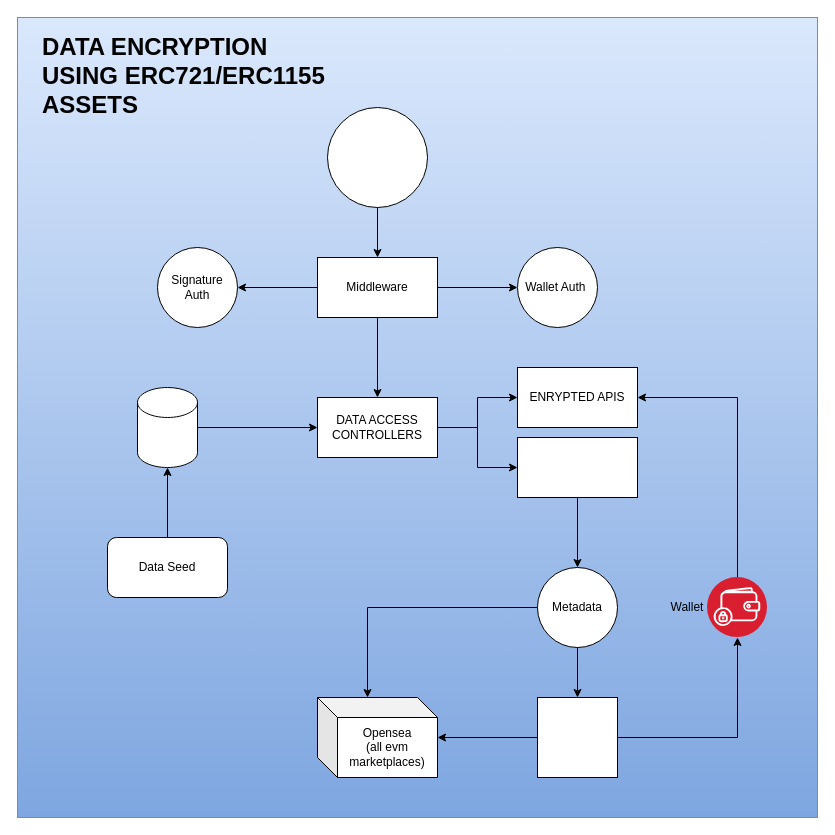
Some shapes in this 835 by 835 pixel diagram are drawn without their labels. The shapes that lost their labels are listed below. From the top down, each one's box as (x1, y1, x2, y2) in pixels, then its label:
(326, 106, 428, 208): Acess Encryption NFT Ownership
(136, 386, 198, 468): DB
(516, 436, 638, 498): PUBLIC APIS
(536, 696, 618, 778): NFT CONTRACT
